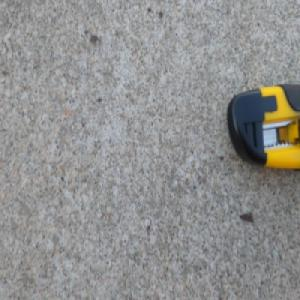Cutter: (226, 81, 300, 171)
